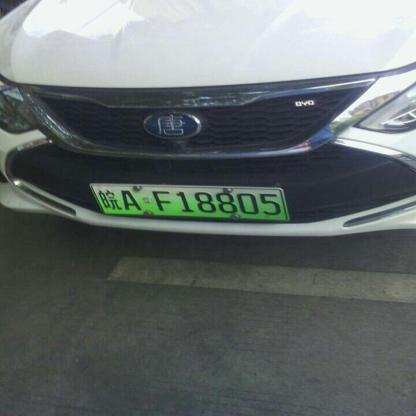lp: (88, 185, 288, 219)
